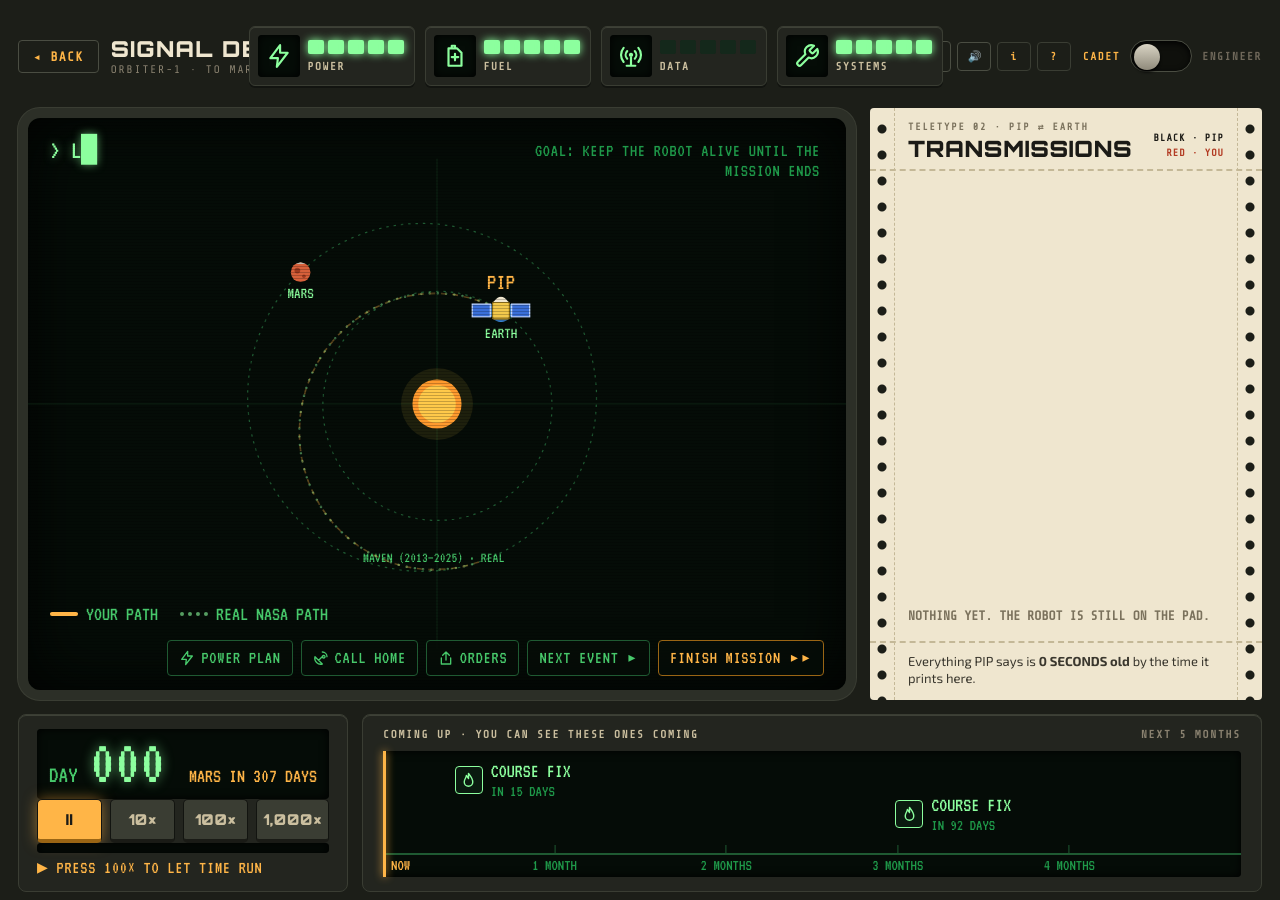
Test case: Fly & Survive: Back, help and briefing › MISSION INFO shows the briefing
The width and height of the screenshot is (1280, 900).
Click the button named "MISSION INFO": click(1014, 56) [997,42,1031,70]
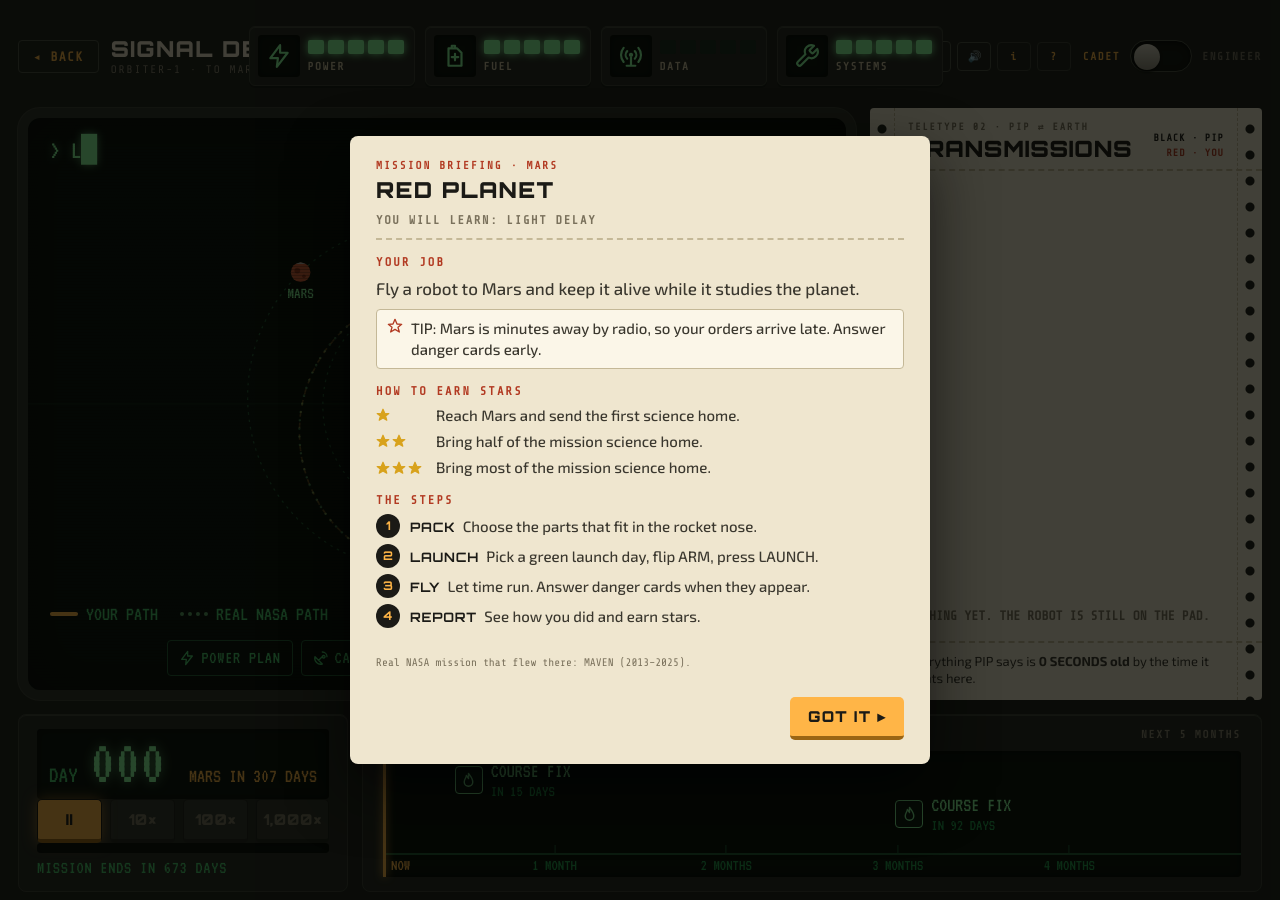
Check: the text "Fly a robot to Mars and keep it alive while it studies the planet." is shown, box [376,276,904,301]
Check: the text "Real NASA mission that flew there: MAVEN (2013–2025)." is shown, box [376,656,691,669]
